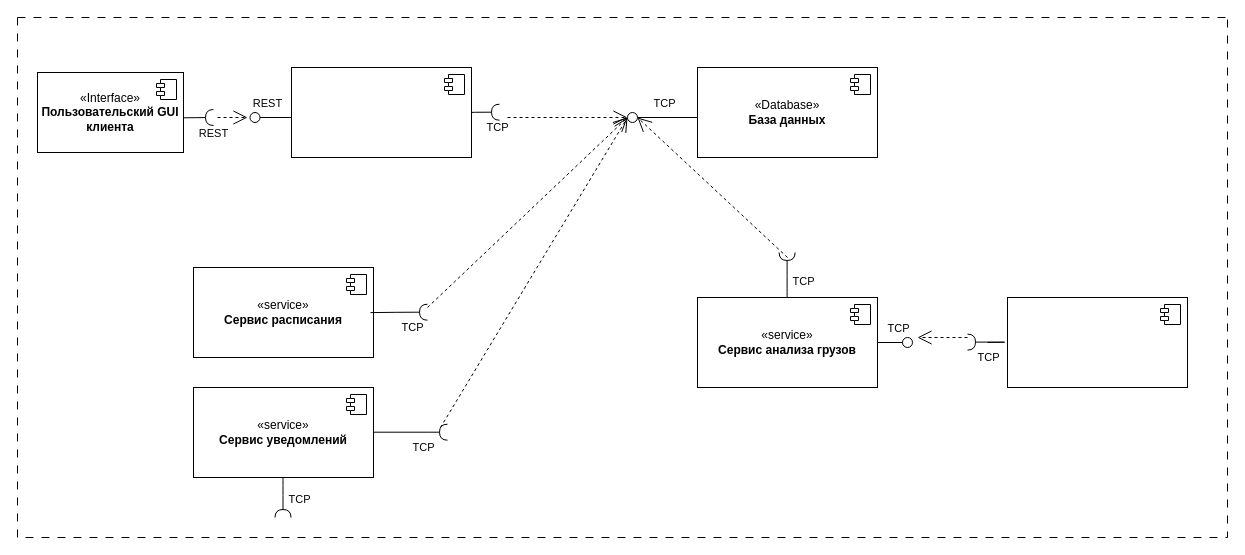
The diagram is 1245 pixels wide and 555 high, and some of its shapes have lost their labels. Here are the shapes that lost their labels. From the top down, the centre of each, then its label:
At (x=381, y=112): "«service» Информационный сервис".
At (x=1097, y=342): "«Interface» Пользовательский GUI оператора".
